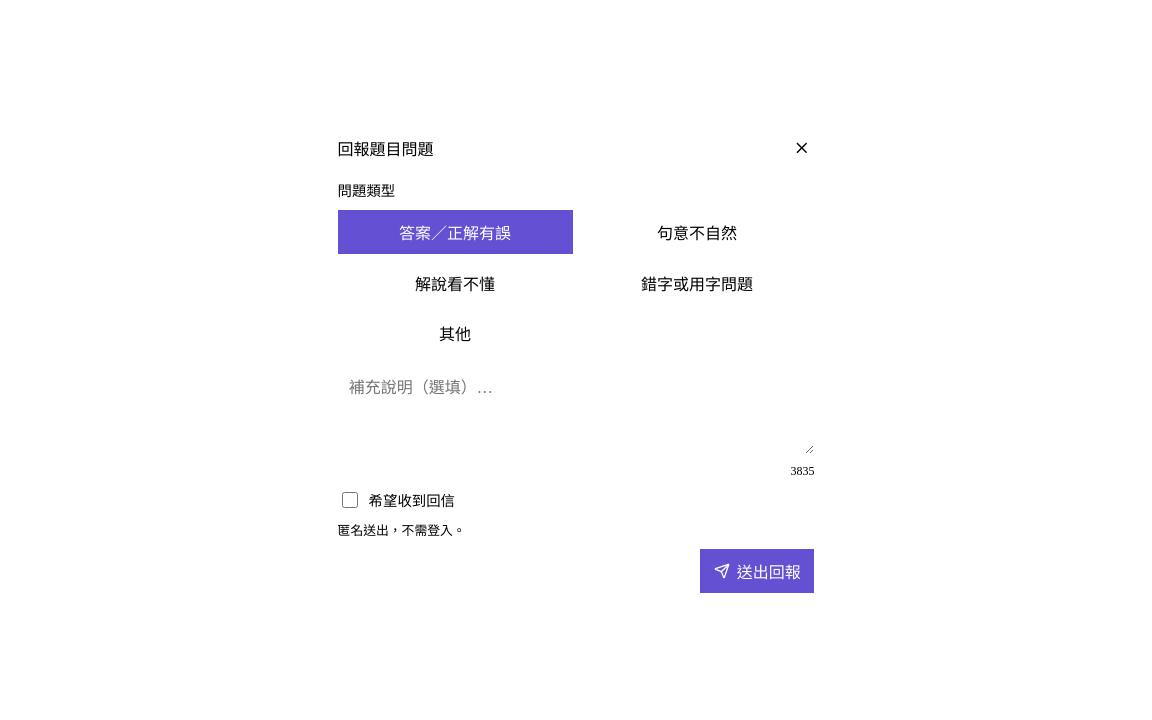
Test case: QuestionReportForm › shows a thank-you on success
The width and height of the screenshot is (1152, 720).
Click the button "送出回報" at x=757, y=571, box [700,549,814,593]
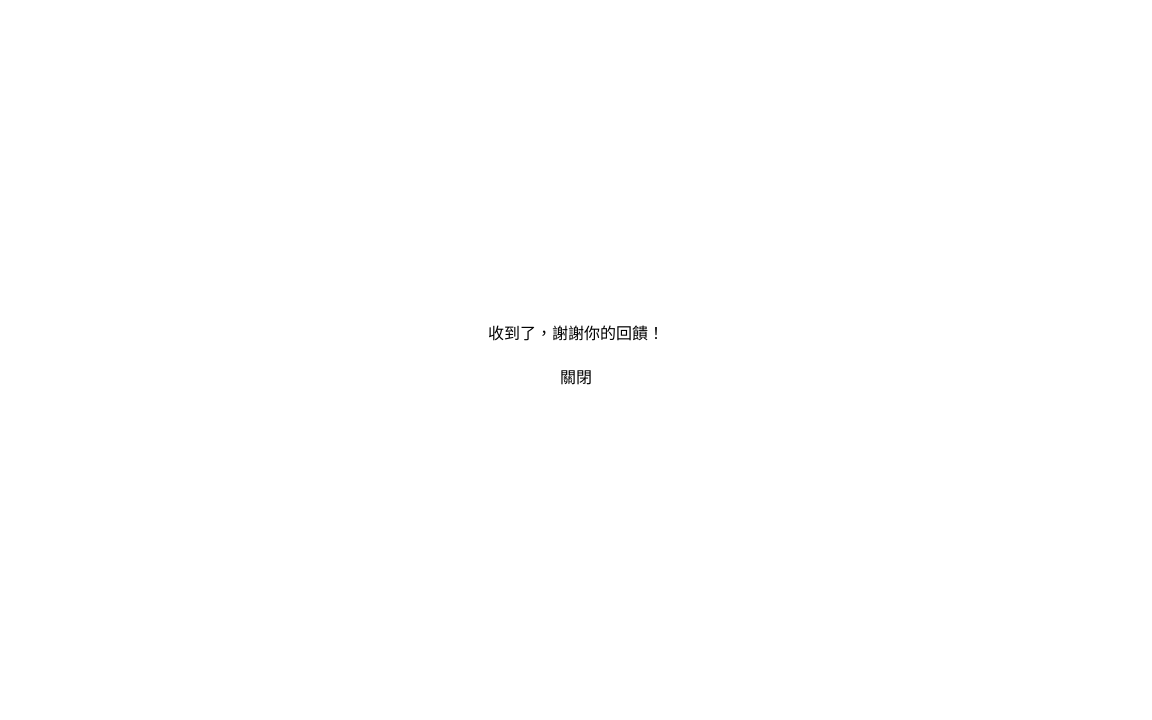
Now the text "收到了，謝謝你的回饋！" is shown, box [488,320,664,344]
